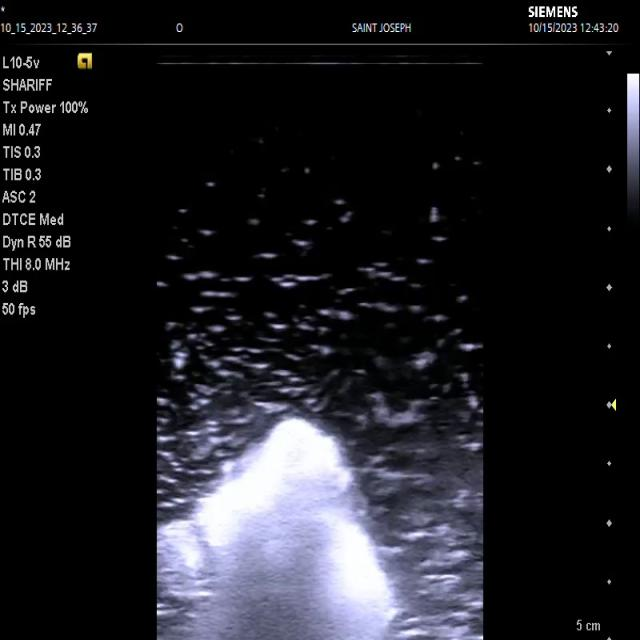tissue: (158, 418, 399, 640)
